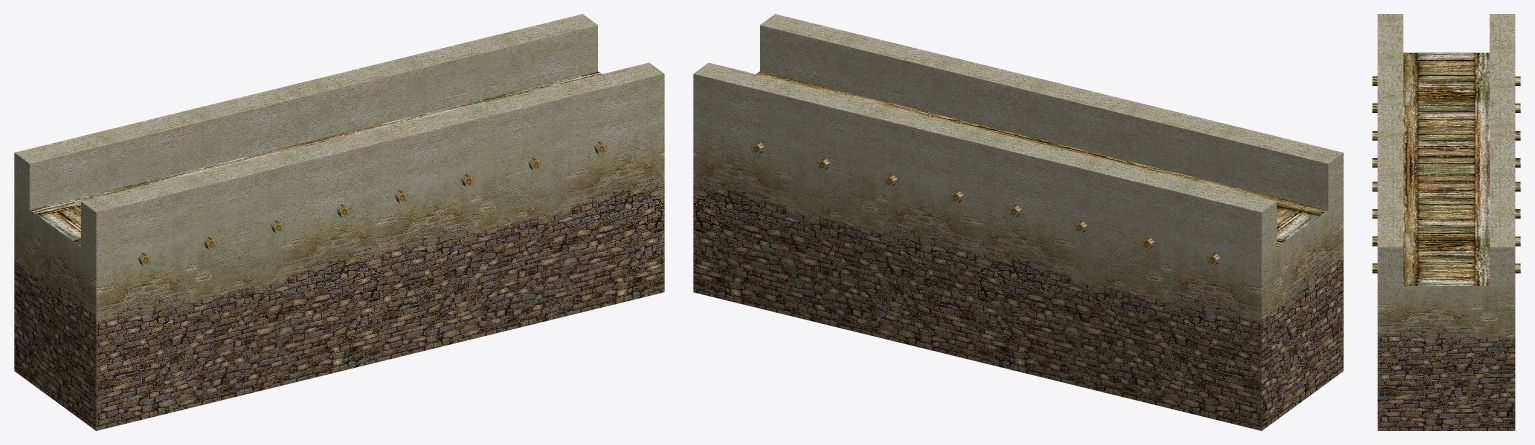
Rendered from iber_wall_med.dae.
3 views of the same model, side by side, from view 1: azimuth 30°, elevation 25°; view 2: azimuth 150°, elevation 25°; view 3: azimuth 270°, elevation 25° (orthographic). The views are drawn at different scales.
Visible parts, largest first — view 1: beams_short; view 2: beams_short; view 3: beams_short.
Boxes of the visible parts, <box> form: beams_short: <box>14,14,664,430</box>; beams_short: <box>693,14,1343,430</box>; beams_short: <box>1372,14,1520,430</box>.
Bounding box in the file's own units: 27.66 × 7.44 × 10.16.
